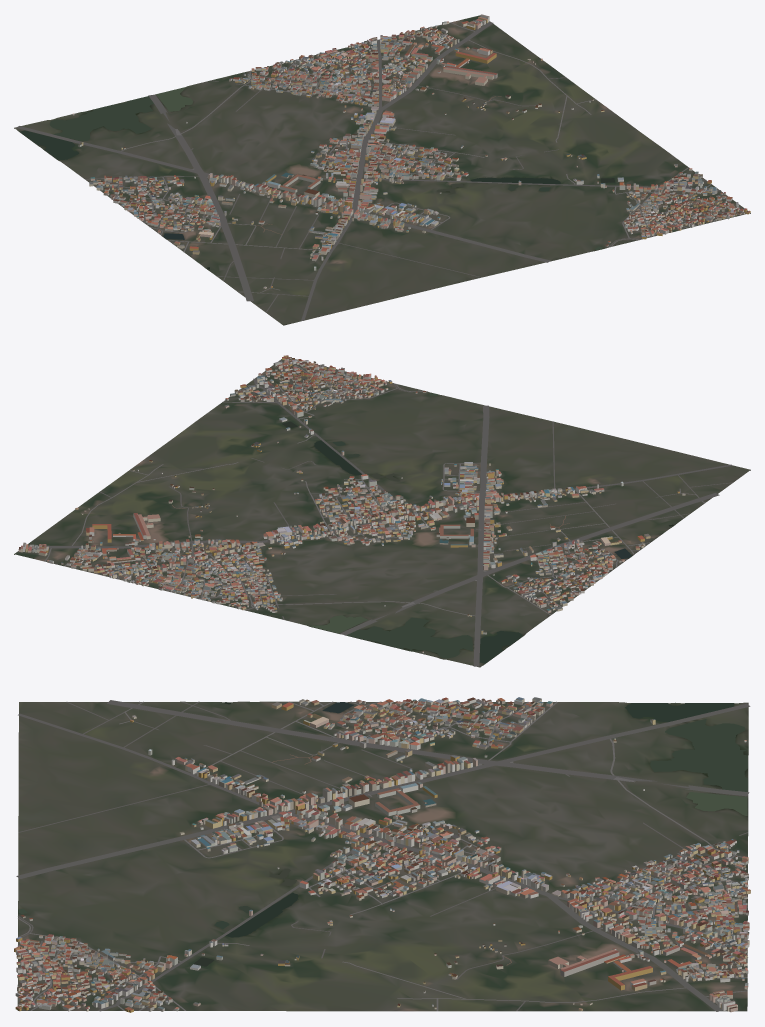
3 views of the same model, one above another, from view 1: azimuth 30°, elevation 25°; view 2: azimuth 150°, elevation 25°; view 3: azimuth 270°, elevation 25° (orthographic). The views are drawn at different scales.
Parts seen in each view (by area): view 1: ground, buildings, roads, water; view 2: ground, buildings, roads, water; view 3: ground, buildings, roads, water.
Part boxes in pixels (box(x1,y1,x2,y2)): ground: box(14, 15, 750, 325); buildings: box(72, 14, 750, 288); roads: box(16, 22, 743, 320); water: box(20, 87, 676, 269); ground: box(14, 358, 750, 667); buildings: box(18, 355, 685, 653); roads: box(28, 359, 733, 666); water: box(282, 374, 673, 663); ground: box(17, 701, 748, 1011); buildings: box(14, 697, 750, 1012); roads: box(16, 700, 750, 1011); water: box(18, 702, 747, 966).
Size of the model in its own units: 1415 by 28.02 by 1416.
